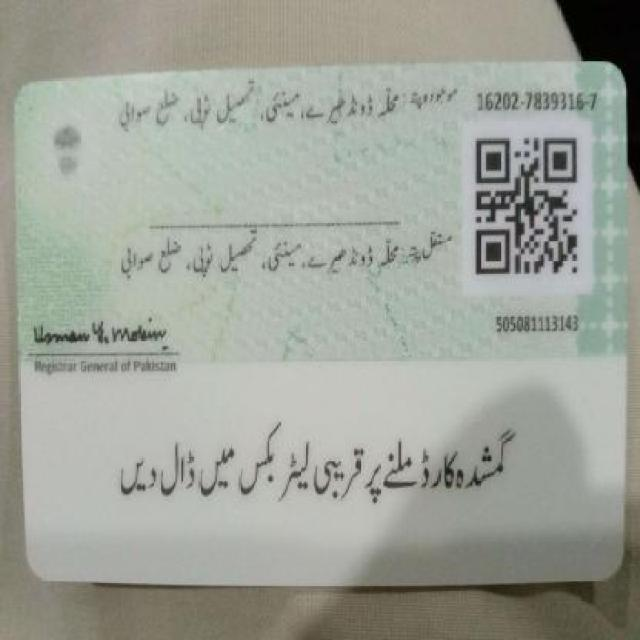Back: (11, 60, 624, 588)
